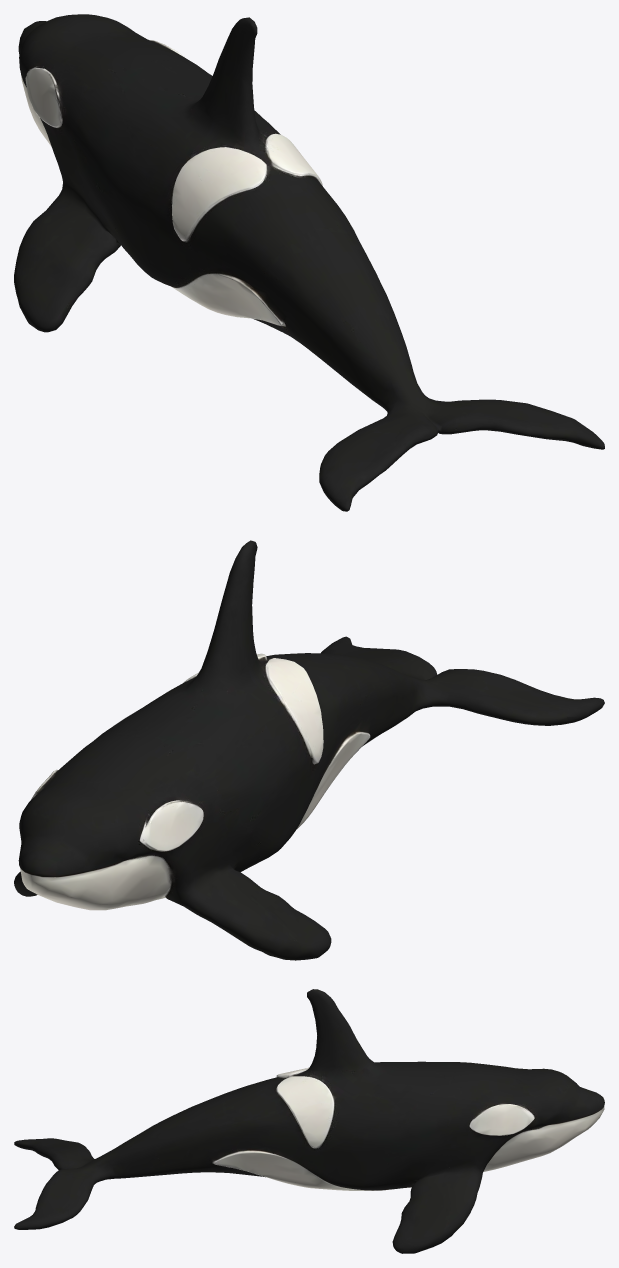
Rendered from orca.glb.
3 renders of one model, top to bottom at view 1: azimuth 30°, elevation 25°; view 2: azimuth 150°, elevation 25°; view 3: azimuth 270°, elevation 25°, orthographic. The views are drawn at different scales.
Visible parts, largest first — view 1: tripo_node_d230251f-8a31-4938-a214-1227ff036b80; view 2: tripo_node_d230251f-8a31-4938-a214-1227ff036b80; view 3: tripo_node_d230251f-8a31-4938-a214-1227ff036b80.
Part boxes in pixels (left/top/right/bottom): tripo_node_d230251f-8a31-4938-a214-1227ff036b80: left=14, top=14, right=604, bottom=511; tripo_node_d230251f-8a31-4938-a214-1227ff036b80: left=14, top=540, right=604, bottom=960; tripo_node_d230251f-8a31-4938-a214-1227ff036b80: left=14, top=989, right=604, bottom=1253.
Bounding box in the file's own units: 0.384 × 0.4077 × 1.
Materials: 1 (1 with a texture image).
